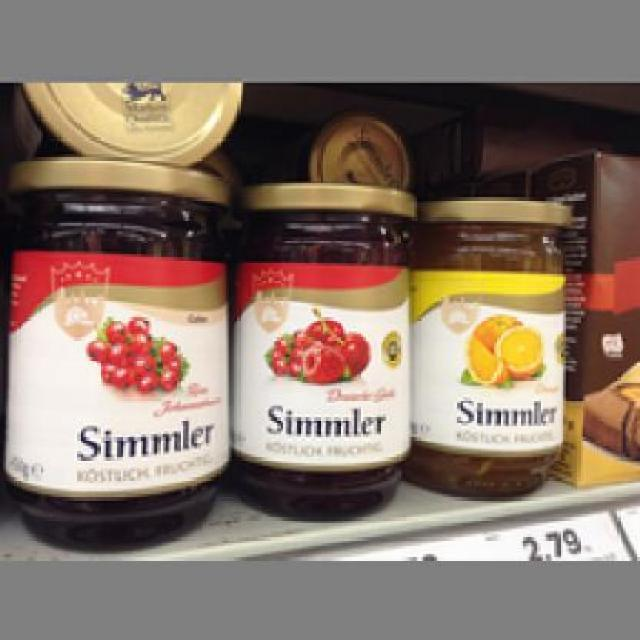Jam: (5, 154, 232, 552), (232, 183, 412, 520), (408, 194, 566, 497)
